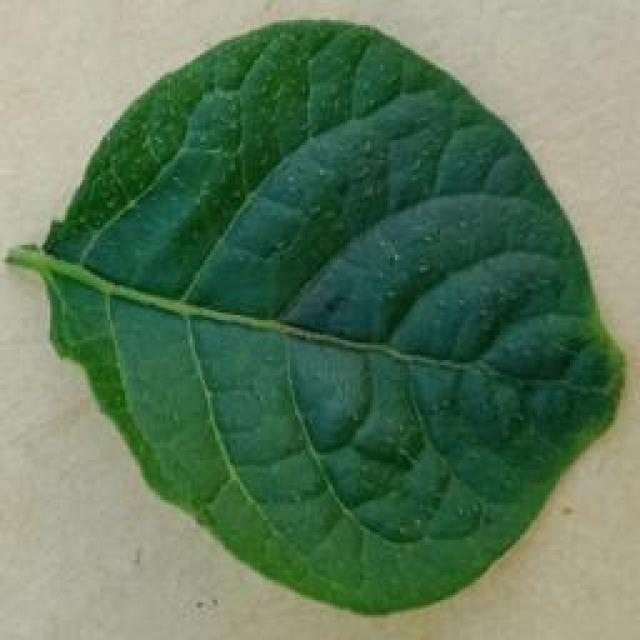Potato_Healthy: (6, 18, 616, 612)
